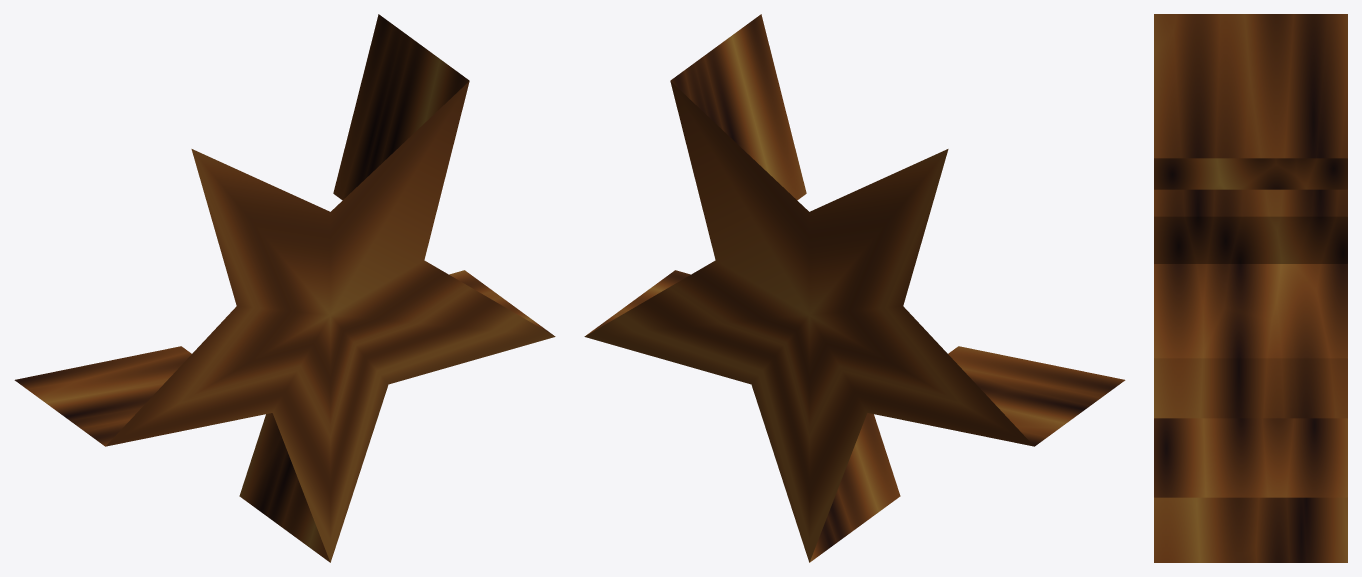
File: star-copper.glb
3 views of the same model, side by side, from view 1: azimuth 30°, elevation 25°; view 2: azimuth 150°, elevation 25°; view 3: azimuth 270°, elevation 25° (orthographic). The views are drawn at different scales.
Visible parts, largest first — view 1: world; view 2: world; view 3: world.
Boxes of the visible parts, left/top/right/bottom form: world: left=14, top=14, right=555, bottom=562; world: left=584, top=14, right=1125, bottom=562; world: left=1154, top=14, right=1347, bottom=562.
Bounding box in the file's own units: 1.14 × 1.09 × 0.4.
Materials: 1 (1 with a texture image).
